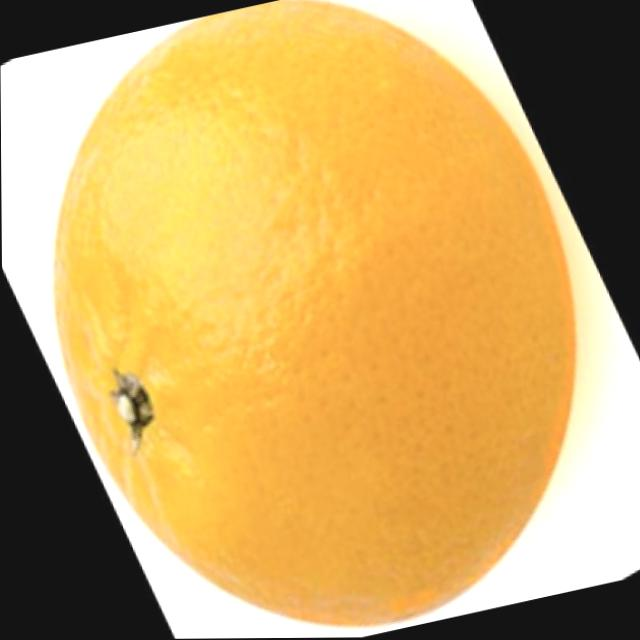Orange: (0, 0, 635, 640)
